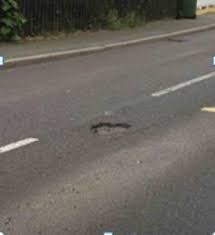pothole: (85, 118, 140, 136)
